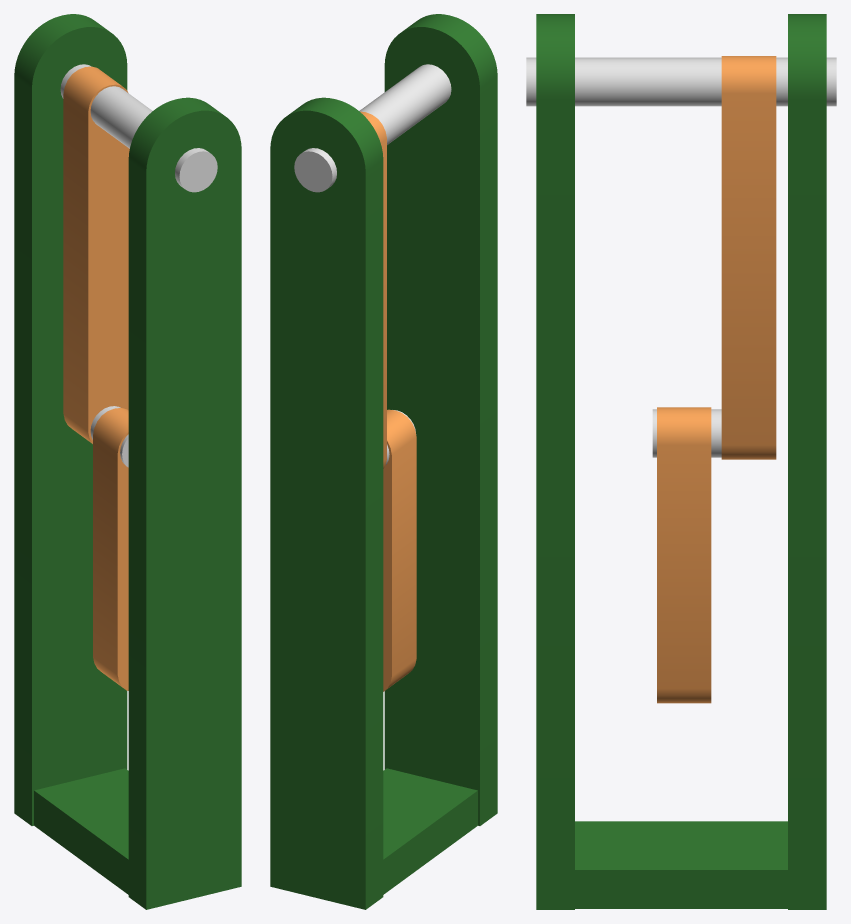
The model's file is Crane B Medium.fbx.
The picture shows the model from 3 angles, left to right: view 1: azimuth 30°, elevation 25°; view 2: azimuth 150°, elevation 25°; view 3: azimuth 270°, elevation 25°; orthographic projection. The views are drawn at different scales.
Parts seen in each view (by area): view 1: Crane B Medium.003, Crane B Medium.004, Crane B Medium.002, Crane B Medium.001, Crane B Medium.005, Crane B Medium.006; view 2: Crane B Medium.004, Crane B Medium.003, Crane B Medium.001, Crane B Medium.005, Crane B Medium.006, Crane B Medium.002; view 3: Crane B Medium.004, Crane B Medium.003, Crane B Medium.002, Crane B Medium.005, Crane B Medium.001, Crane B Medium.006.
Part boxes in pixels (x1,y1,x2,y2): Crane B Medium.003: (128,97,241,909); Crane B Medium.004: (14,14,127,825); Crane B Medium.002: (63,66,129,467); Crane B Medium.001: (93,408,128,690); Crane B Medium.005: (34,768,128,894); Crane B Medium.006: (60,64,217,192); Crane B Medium.004: (270,97,383,909); Crane B Medium.003: (384,14,497,825); Crane B Medium.001: (383,409,416,691); Crane B Medium.005: (383,768,477,894); Crane B Medium.006: (294,64,451,192); Crane B Medium.002: (360,111,416,468); Crane B Medium.004: (788,14,826,909); Crane B Medium.003: (536,14,574,909); Crane B Medium.002: (652,56,776,459); Crane B Medium.005: (575,821,787,908); Crane B Medium.001: (657,407,711,703); Crane B Medium.006: (526,57,836,106).
Bounding box in the file's own units: 53.12 × 418 × 136.
